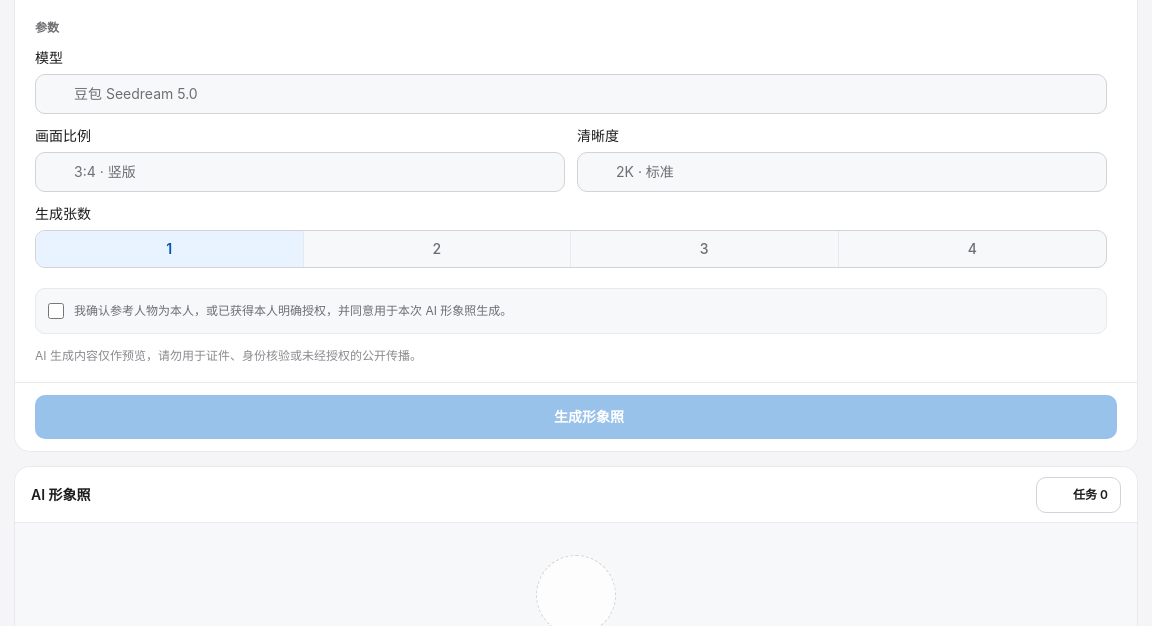
Test: PortraitWorkflowStudio › 提交报错时把报错元素滚进视口，避免从吸底栏提交后看不到原因
This screenshot has width=1152, height=626.
(page scrolled)
Click the checkbox named "人物授权确认" at [56, 311], box [48,303,64,319]
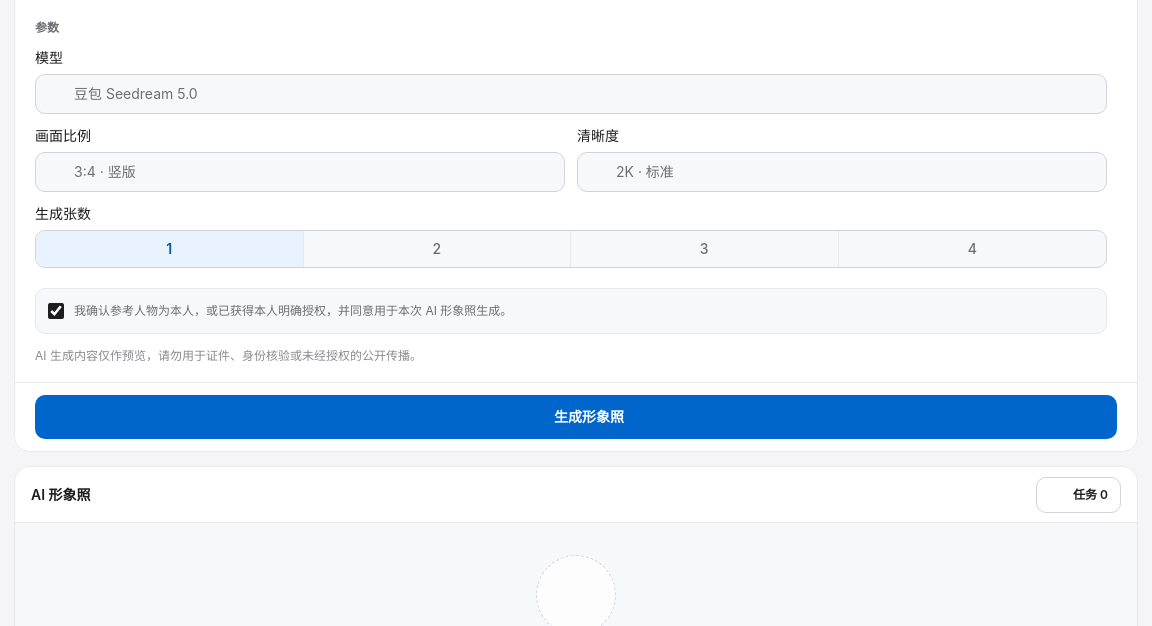
Click the button "生成形象照" at [576, 417], box [35,395,1117,439]
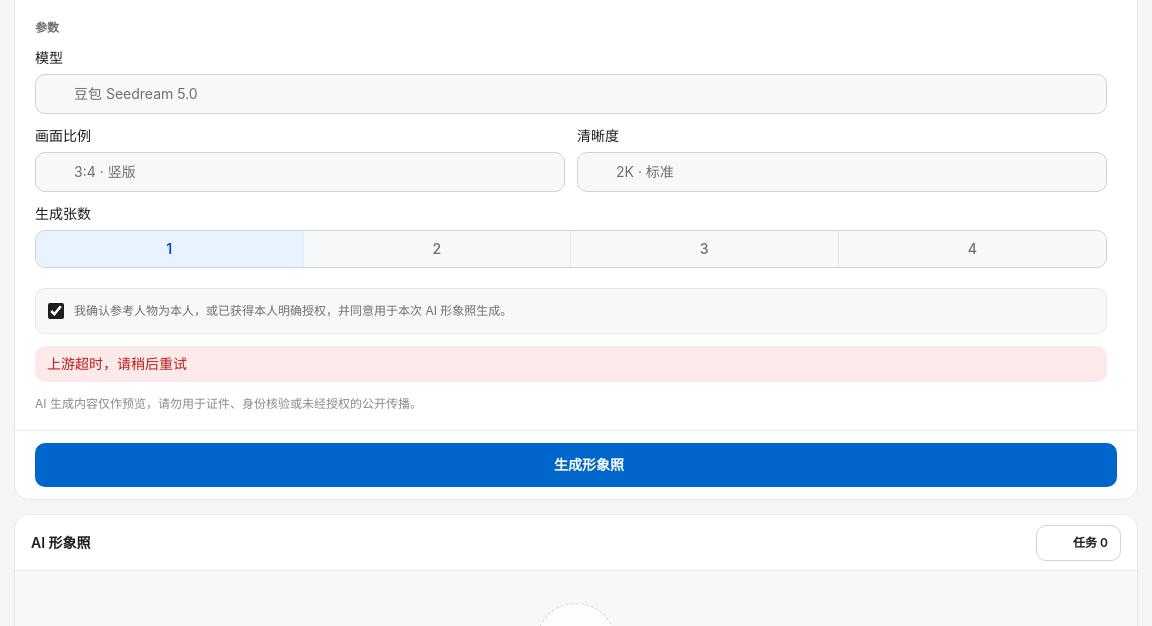
Expected: the message "上游超时，请稍后重试" is shown, [35,346,1107,382]
